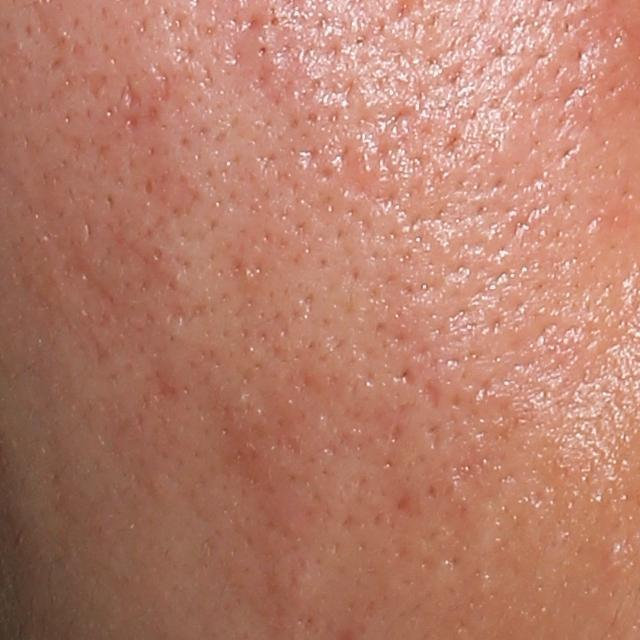atrophic_scar: (419, 378, 445, 411), (122, 75, 143, 108)
